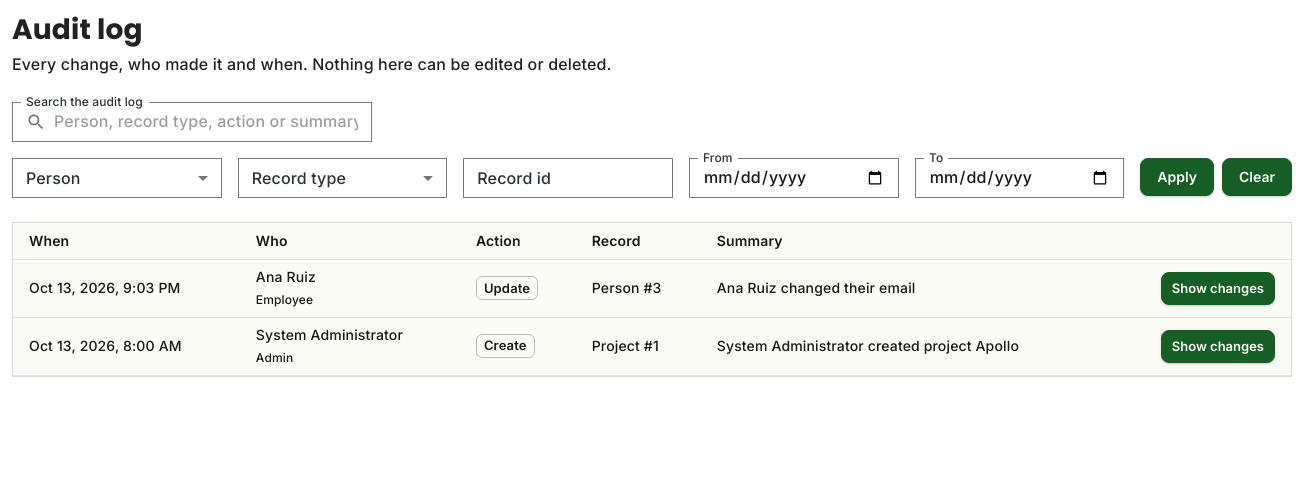
Test: AuditLogPage › shows only the fields that changed, before and after
The width and height of the screenshot is (1304, 483).
Click the button "Show changes" in the row of "Oct 13, 2026, 9:03 PM" at point(1218, 288), box [1161,272,1275,305]
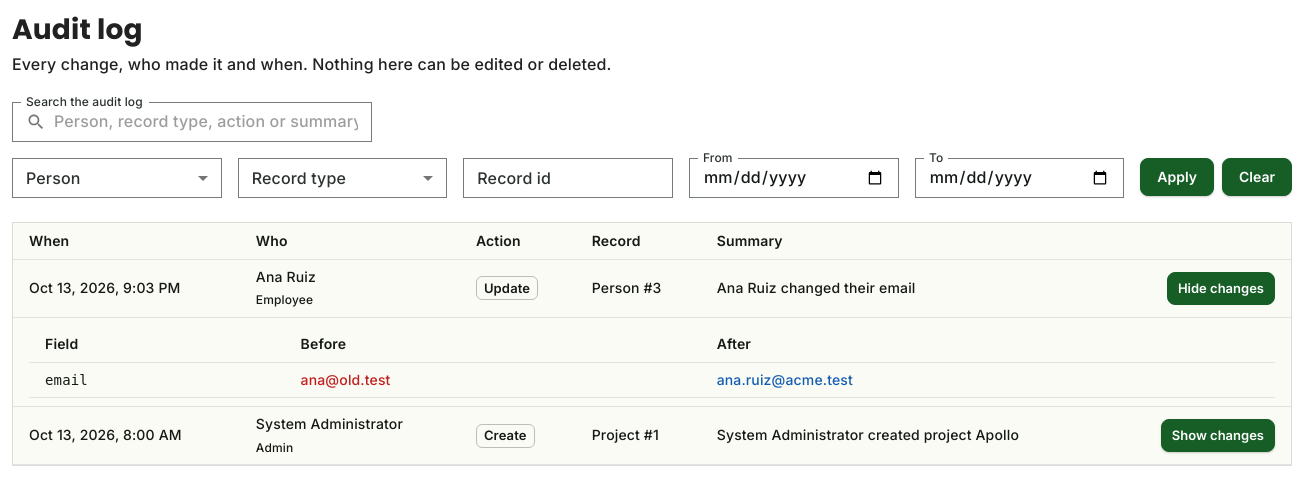
Expected: the text "email" is shown, [29,362,285,398]
Expected: the text "ana@old.test" is shown, [285,362,701,398]
Expected: the text "ana.ruiz@acme.test" is shown, [701,362,1275,398]
